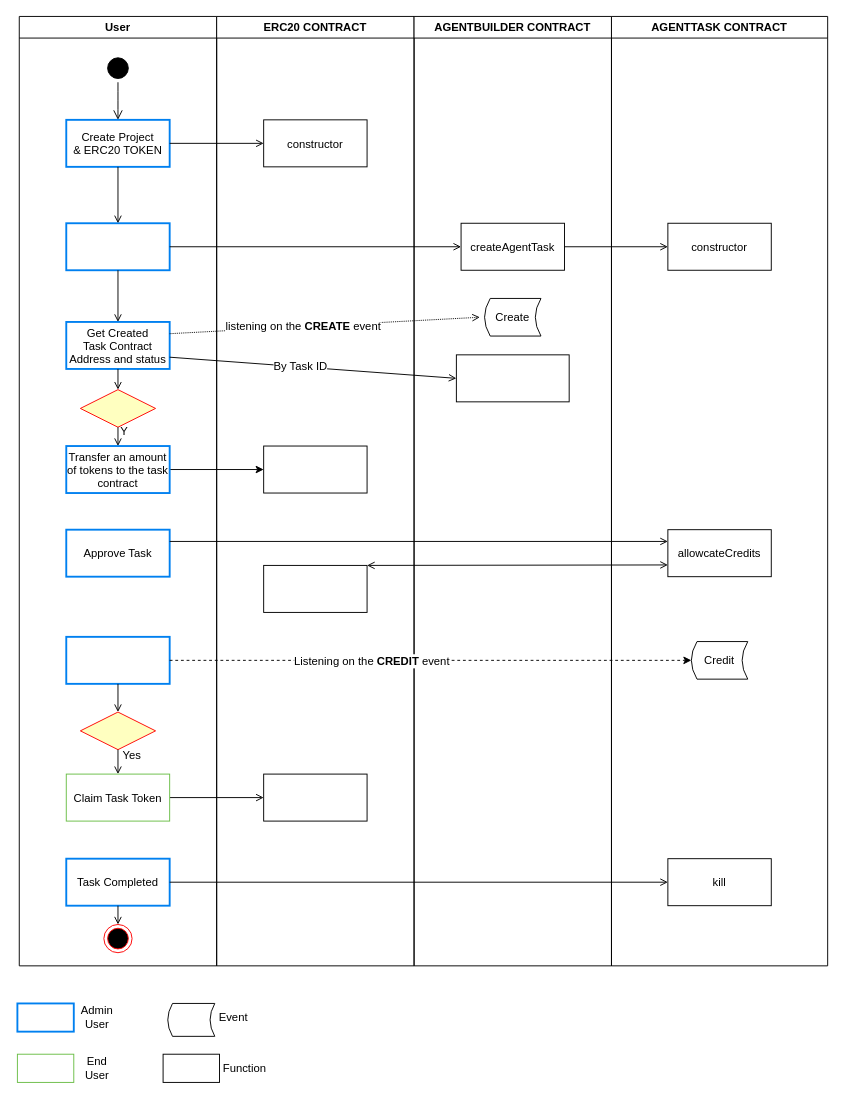
The diagram is 844 pixels wide and 1099 high, and some of its shapes have lost their labels. Each missing label, with the centre of its shape:
"approve" goes at (x=315, y=588).
"approved" goes at (x=117, y=730).
"Create Task" goes at (x=117, y=246).
"Get Approve Status" goes at (x=117, y=659).
"getAgentTaskInfo" goes at (x=512, y=378).
"succeeded" goes at (x=117, y=408).
"transfer" goes at (x=315, y=469).
"transferFrom" goes at (x=315, y=797).
